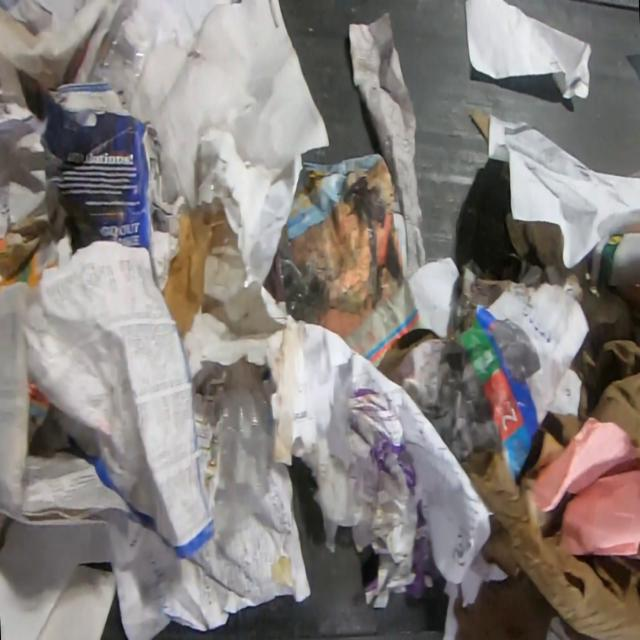cardboard: (453, 430, 640, 640), (550, 258, 640, 452), (503, 212, 569, 288)
rigid_plastic: (90, 6, 154, 118)
soft_plastic: (191, 376, 273, 530)
